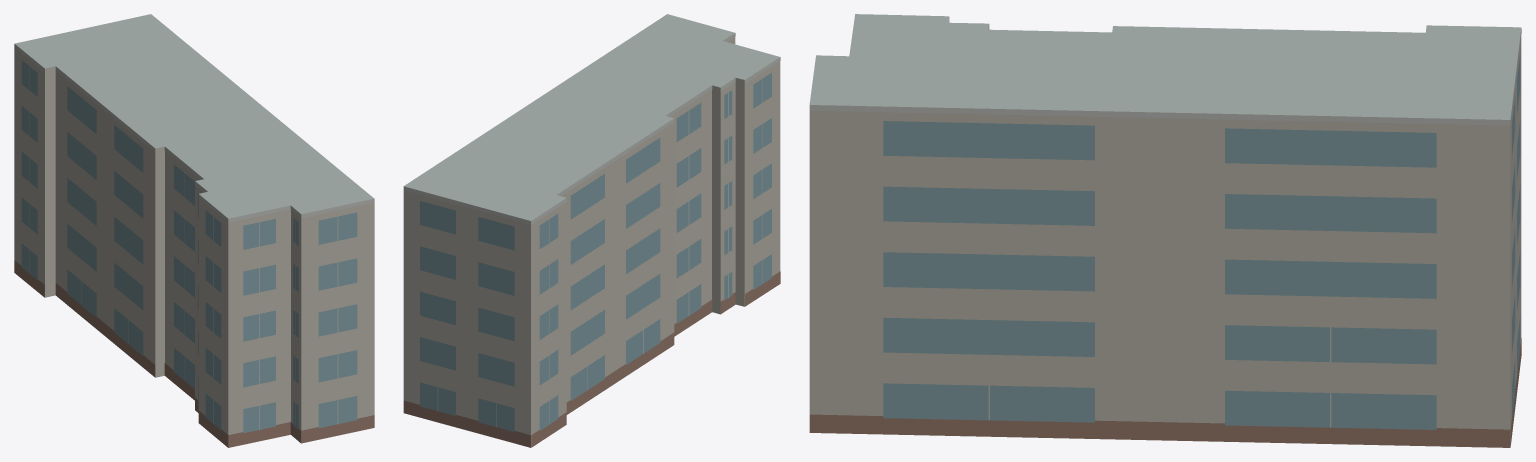
The model's file is survey-upis-32932153.glb.
3 renders of one model, left to right at view 1: azimuth 30°, elevation 25°; view 2: azimuth 150°, elevation 25°; view 3: azimuth 270°, elevation 25°, orthographic. The views are drawn at different scales.
Parts seen in each view (by area): view 1: survey-upis-32932153.tmp; view 2: survey-upis-32932153.tmp; view 3: survey-upis-32932153.tmp.
Part boxes in pixels (x1=…): survey-upis-32932153.tmp: x1=14, y1=14, x2=374, y2=447; survey-upis-32932153.tmp: x1=403, y1=14, x2=780, y2=447; survey-upis-32932153.tmp: x1=809, y1=14, x2=1521, y2=447.
Size of the model in its own units: 9.78 by 14.1 by 27.76.
